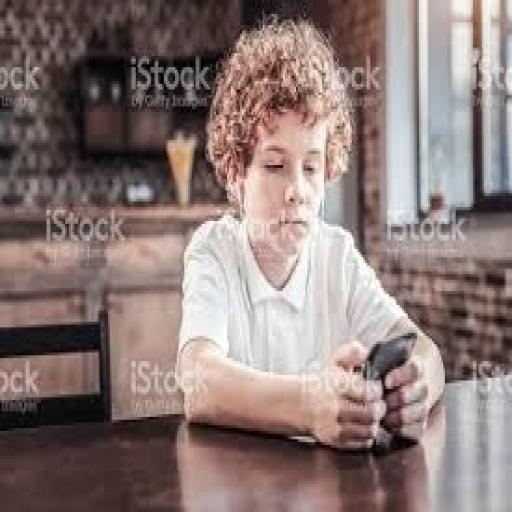texting: (173, 14, 447, 453)
